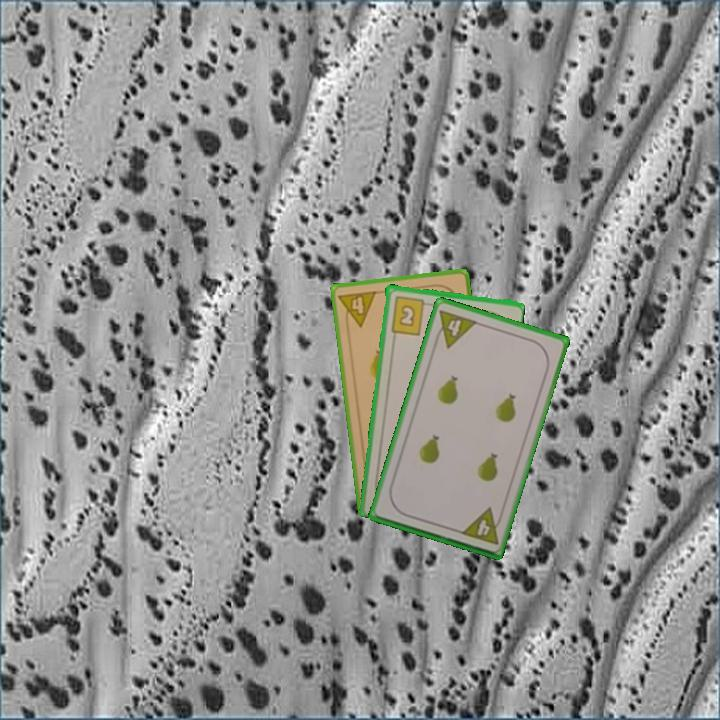2b: (387, 292, 433, 337)
4p: (430, 306, 480, 351), (457, 504, 506, 548), (335, 287, 379, 331)
